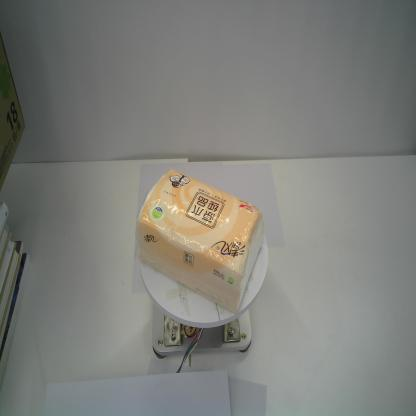Tissue: (133, 167, 265, 313)
